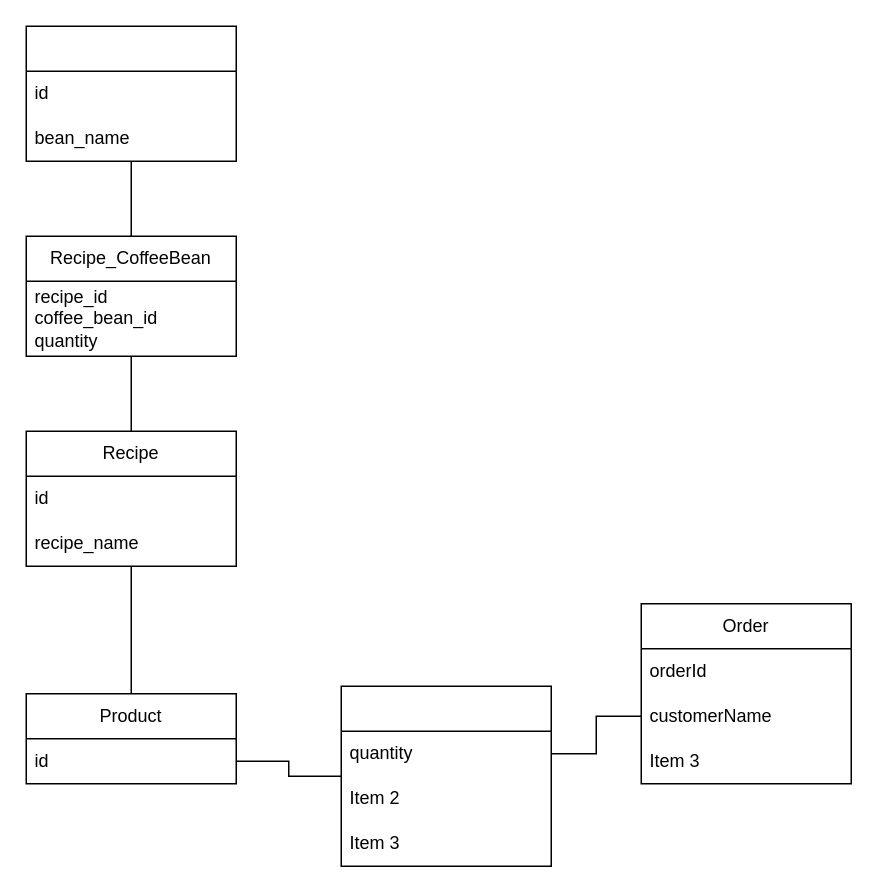
This 878x893 diagram has some shape labels left out. The box of each missing label's shape, as (x1, y1, x2, y2) in pixels:
CoffeeBean: (25, 25, 236, 161)
Product_Order: (340, 685, 551, 866)
